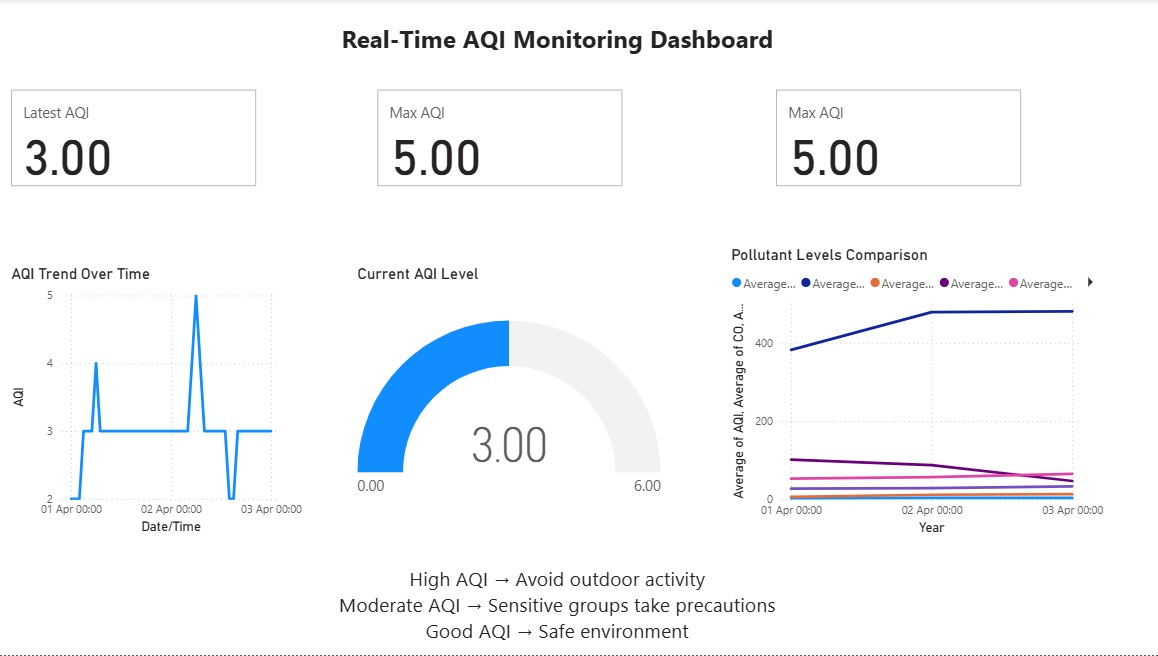

This screenshot's page, from the dashboard's own definition file:
{"tool":"powerbi","page":{"name":"Page 1","canvas":[1280,720],"ordinal":0},"visuals":[{"type":"cardVisual","fields":{"Data":["aqi_history.Latest AQI"]},"box":[9.6,94.7,279.9,116.6],"z":0},{"type":"cardVisual","fields":{"Data":["aqi_history.Max AQI"]},"box":[411.7,94.7,279.9,116.6],"z":1},{"type":"cardVisual","fields":{"Data":["aqi_history.Max AQI"]},"box":[849.4,94.7,279.9,116.6],"z":2},{"type":"lineChart","title":"AQI Trend Over Time","fields":{"Y":["Sum(aqi_history.AQI)"],"Category":["aqi_history.Date/Time"]},"box":[9.6,290.9,329.3,301.9],"z":3},{"type":"gauge","title":"Current AQI Level","fields":{"Y":["aqi_history.Latest AQI"]},"box":[389.7,290.9,343.1,301.9],"z":4},{"type":"lineChart","title":"Pollutant Levels Comparison","fields":{"Category":["aqi_history.Date/Time.Variation.Date Hierarchy.Year","aqi_history.Date/Time.Variation.Date Hierarchy.Quarter","aqi_history.Date/Time.Variation.Date Hierarchy.Month","aqi_history.Date/Time.Variation.Date Hierarchy.Day"],"Y":["Avg(aqi_history.AQI)","Avg(aqi_history.CO)","Avg(aqi_history.NO2)","Avg(aqi_history.O3)","Avg(aqi_history.PM10)","Avg(aqi_history.PM25)"]},"box":[800,270.3,418.5,322.5],"z":5},{"type":"textbox","box":[9.6,616.1,1208.9,104.3],"z":6},{"type":"textbox","box":[9.6,20.6,1208.9,45.3],"z":7}]}

Visuals, with their boxes in screenshot pixels (x1, y1, x2, y2), scaled from the page's 1280x720 canvas onto the 1158x656 screenshot:
cardVisual - aqi_history.Latest AQI: (x1=9, y1=86, x2=262, y2=193)
cardVisual - aqi_history.Max AQI: (x1=372, y1=86, x2=626, y2=193)
cardVisual - aqi_history.Max AQI: (x1=768, y1=86, x2=1022, y2=193)
"AQI Trend Over Time" lineChart: (x1=9, y1=265, x2=307, y2=540)
"Current AQI Level" gauge: (x1=353, y1=265, x2=663, y2=540)
"Pollutant Levels Comparison" lineChart: (x1=724, y1=246, x2=1102, y2=540)
textbox: (x1=9, y1=561, x2=1102, y2=655)
textbox: (x1=9, y1=19, x2=1102, y2=60)
